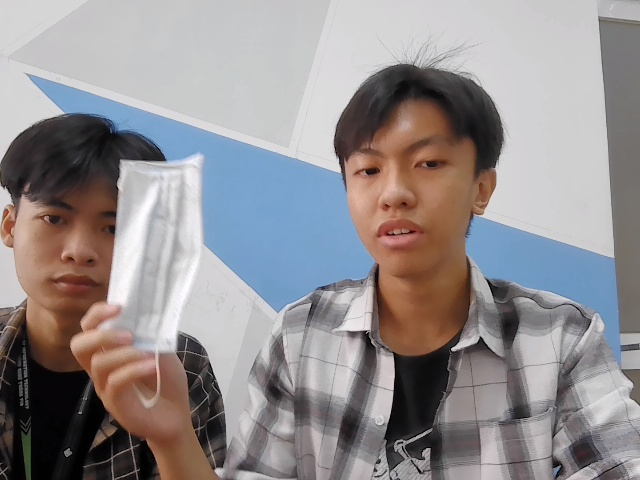human: (337, 68, 509, 285), (1, 112, 160, 329)
mask: (102, 154, 209, 361)
